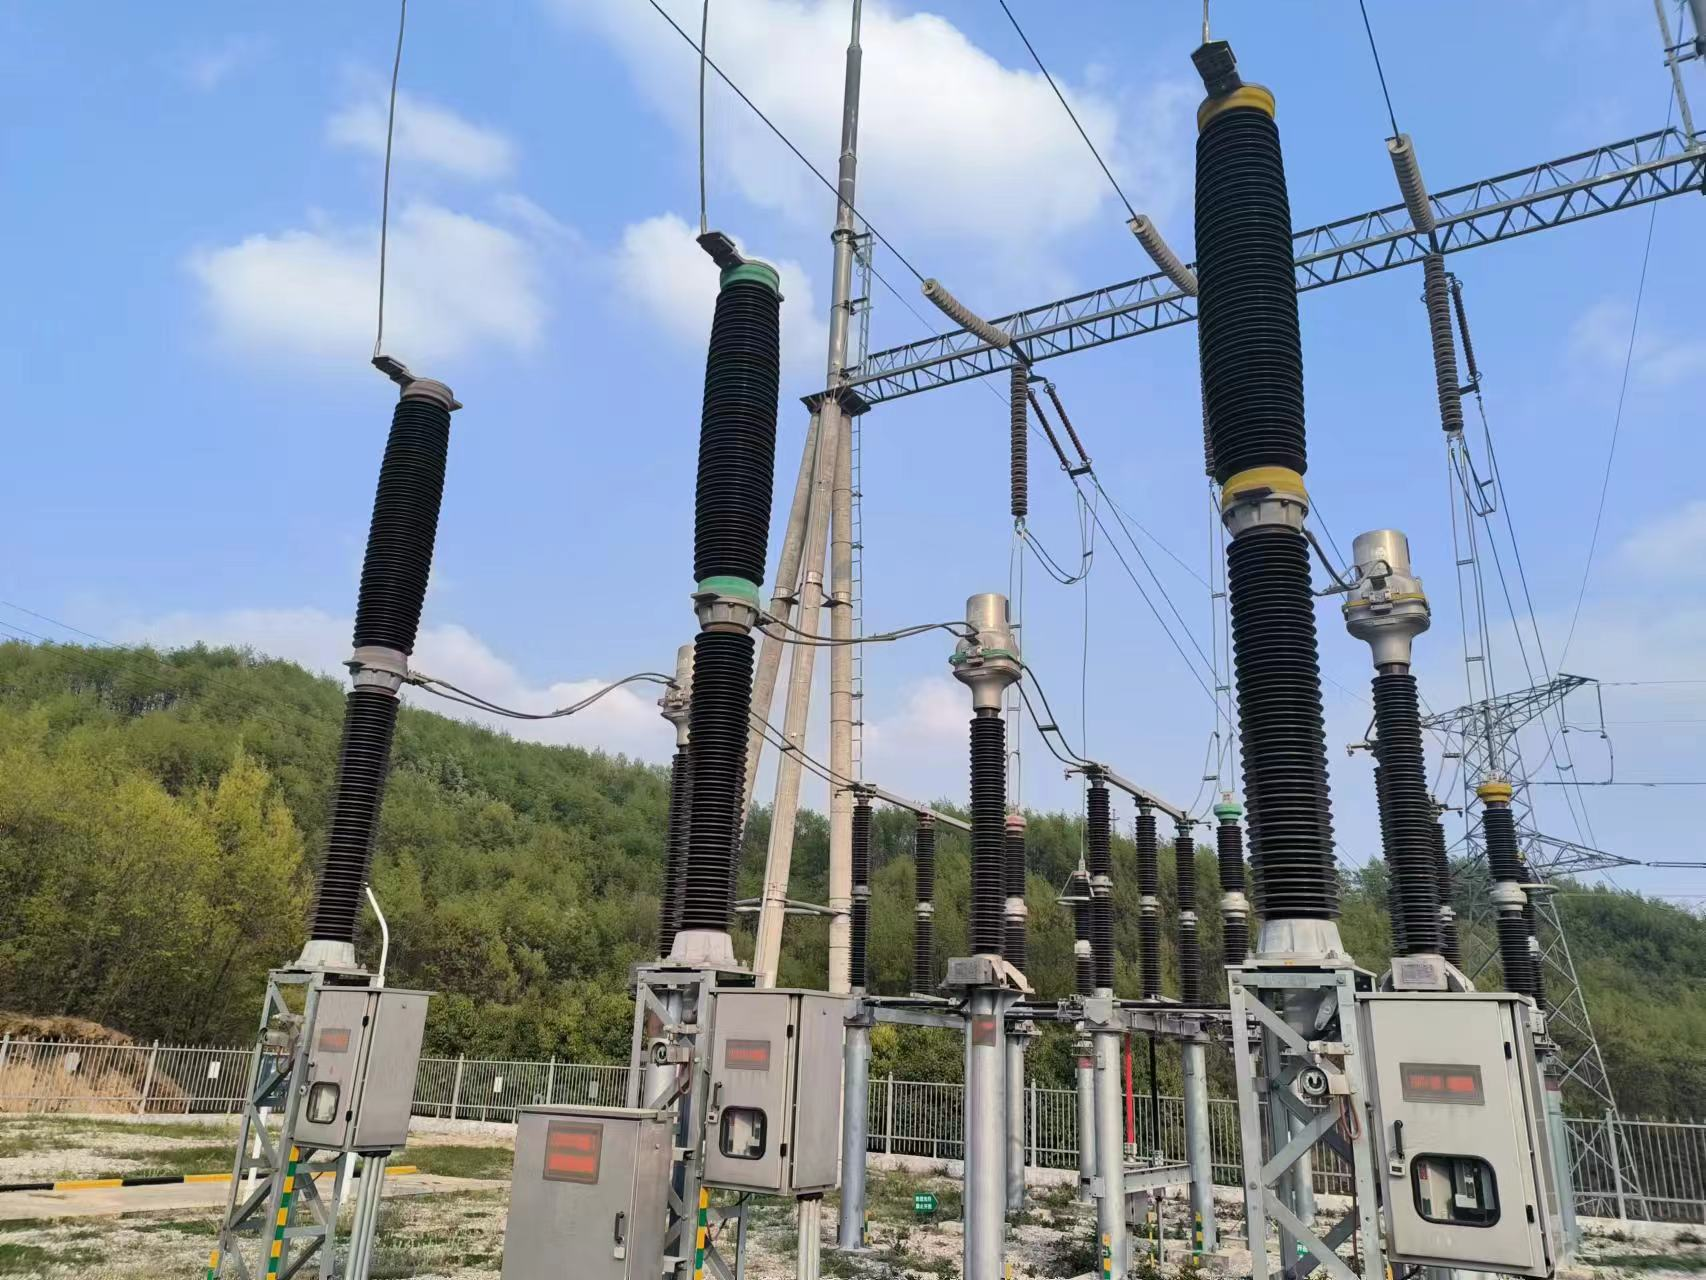Circuit-breaker: (1166, 38, 1355, 963), (294, 346, 464, 973), (680, 225, 790, 961)
